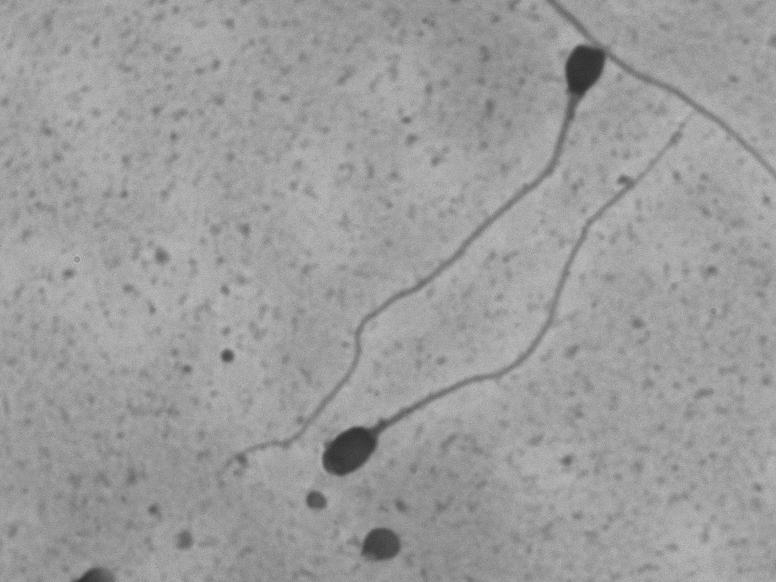Normal: (209, 41, 640, 481), (305, 103, 704, 490)
